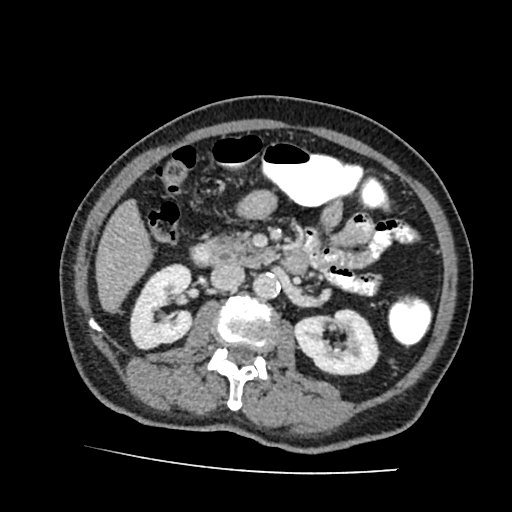aorta: (252, 281, 272, 300)
